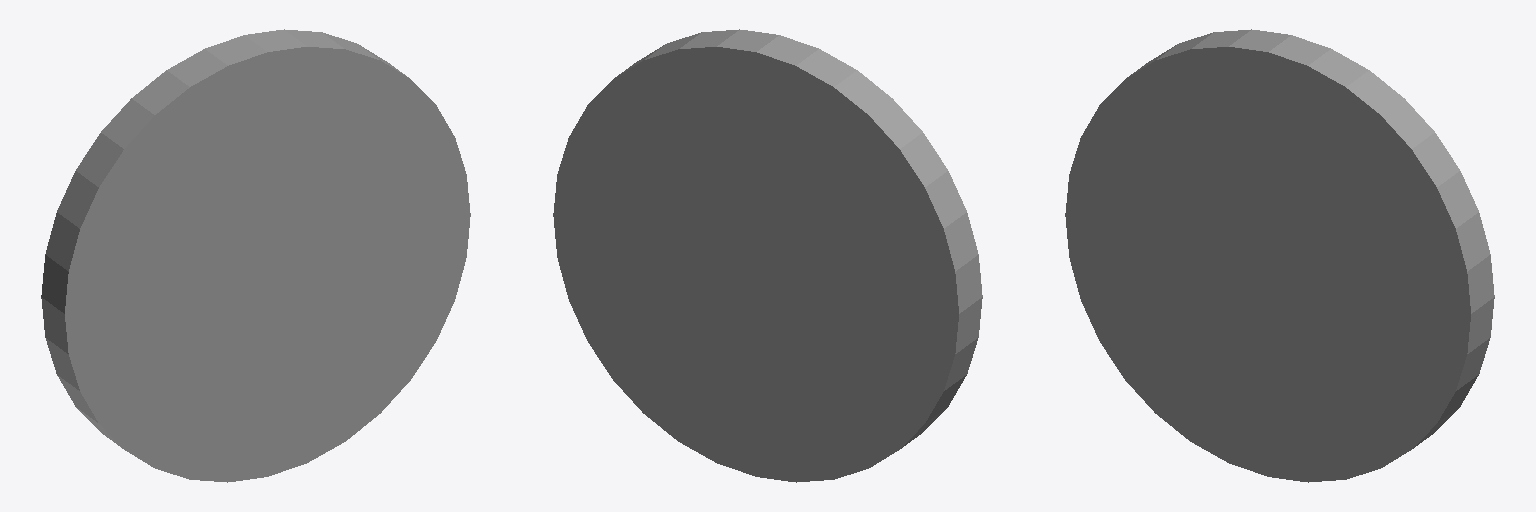
Rendered from silverdoubloon.obj.
The picture shows the model from 3 angles: view 1: azimuth 30°, elevation 25°; view 2: azimuth 150°, elevation 25°; view 3: azimuth 330°, elevation 25°; orthographic projection.
Visible parts, largest first — view 1: Cylinder; view 2: Cylinder; view 3: Cylinder.
Boxes of the visible parts, <box> form: Cylinder: <box>41,29,470,482</box>; Cylinder: <box>553,29,982,482</box>; Cylinder: <box>1065,29,1494,482</box>.
Bounding box in the file's own units: 0.07 × 0.07 × 0.007.